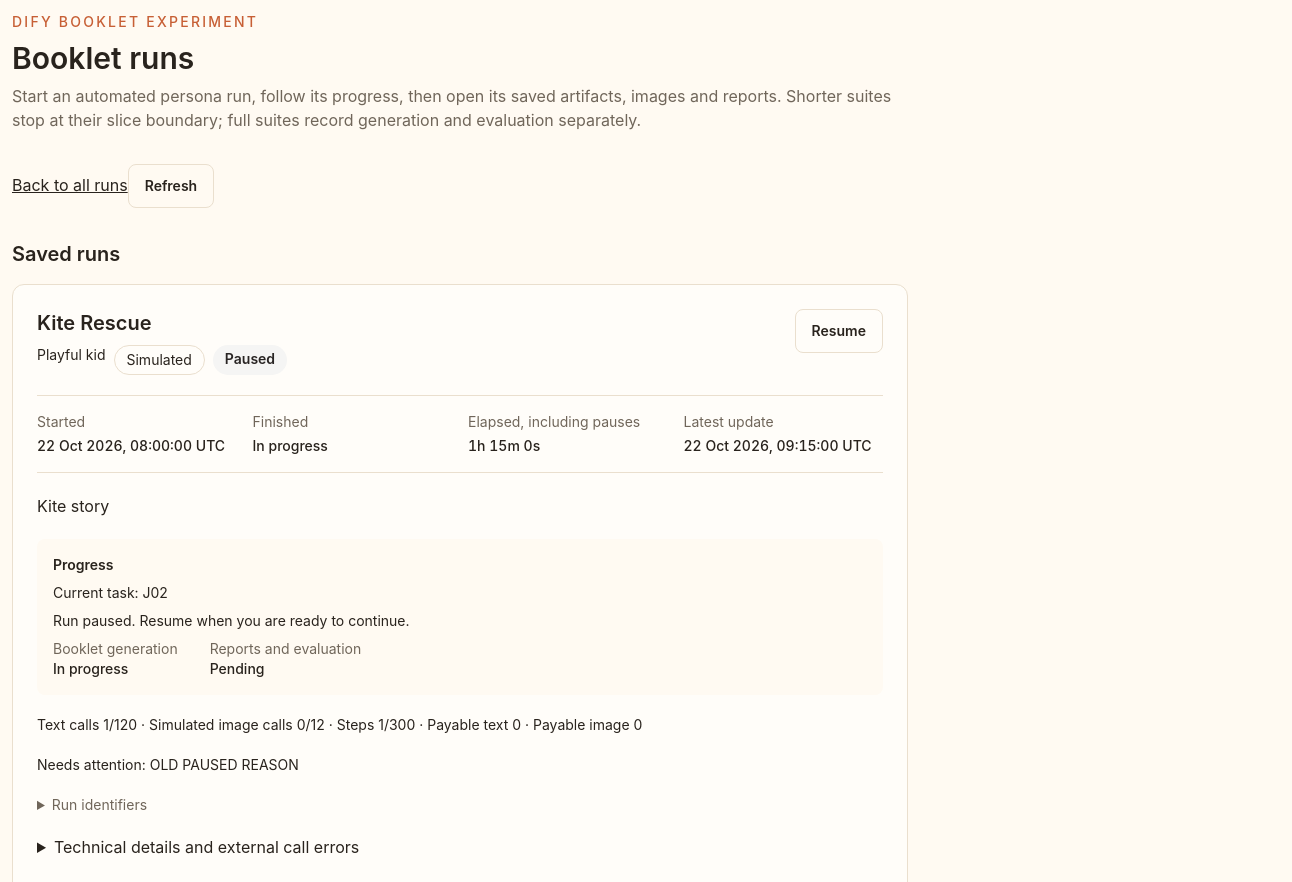
Test: booklet runner inspector › clears stale paused attention after a resume receipt when details cannot refresh
This screenshot has width=1292, height=882.
Click the button "Resume".
click(839, 331)  # box [795,309,883,353]
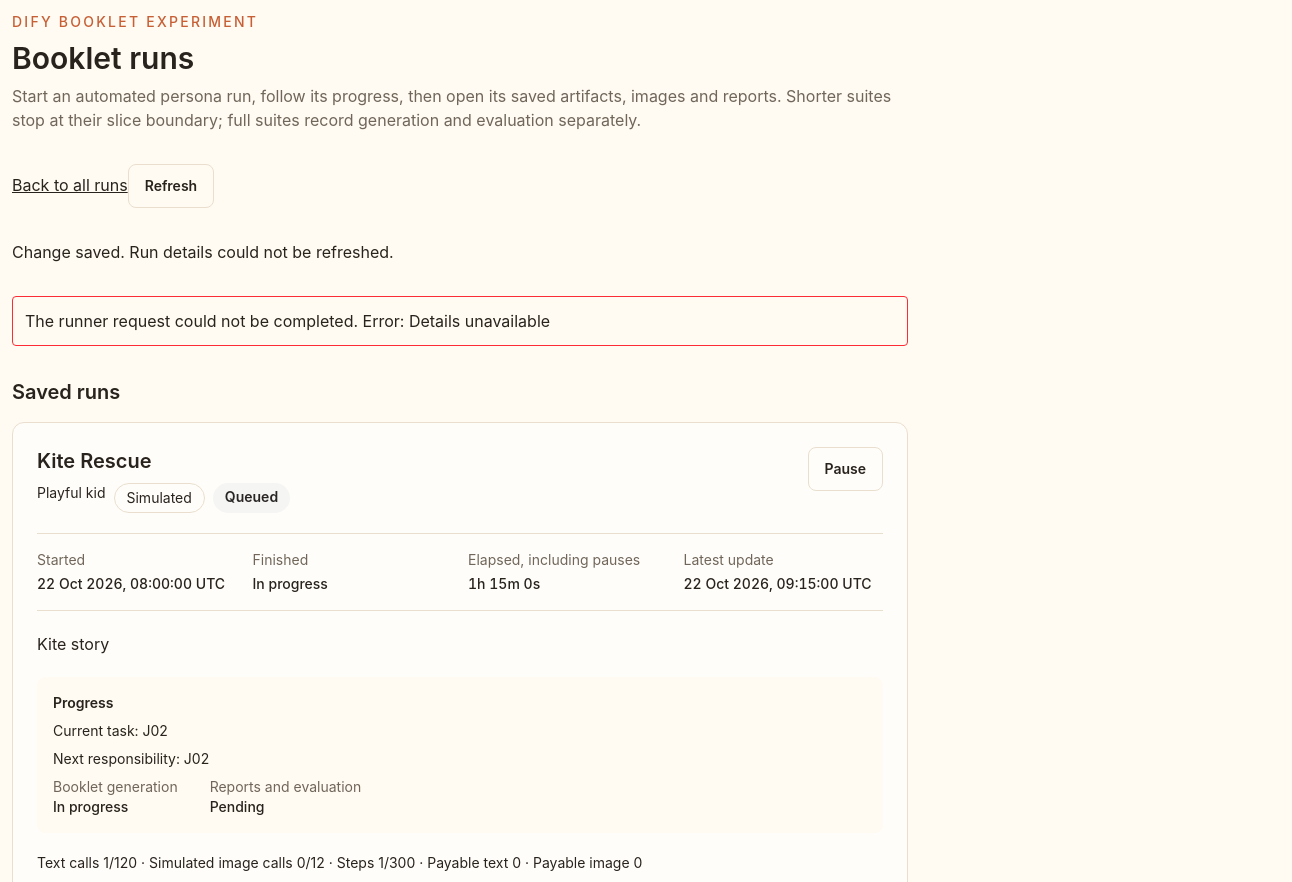
expect the text "Change saved. Run details could not be refreshed." is shown: met, box [12,242,394,262]
expect the text "OLD PAUSED REASON" is gone: met
